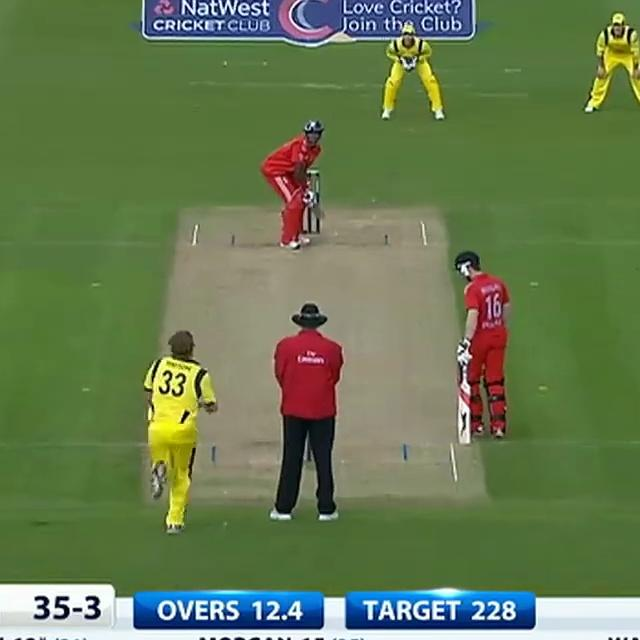umpire: (258, 294, 357, 525)
